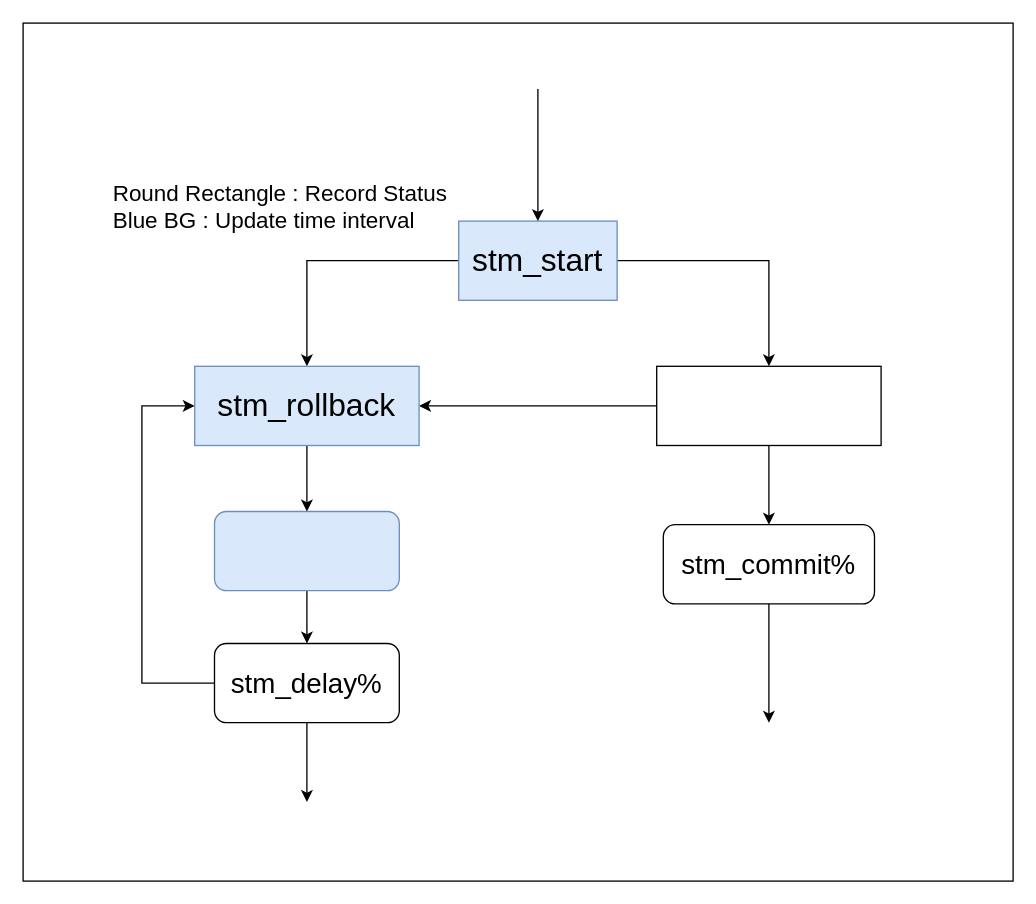
This 1036x904 diagram has some shape labels left out. Each missing label, with the centre of its shape:
"stm_commit" belongs at (x=768, y=405).
"stm_delay" belongs at (x=306, y=550).
